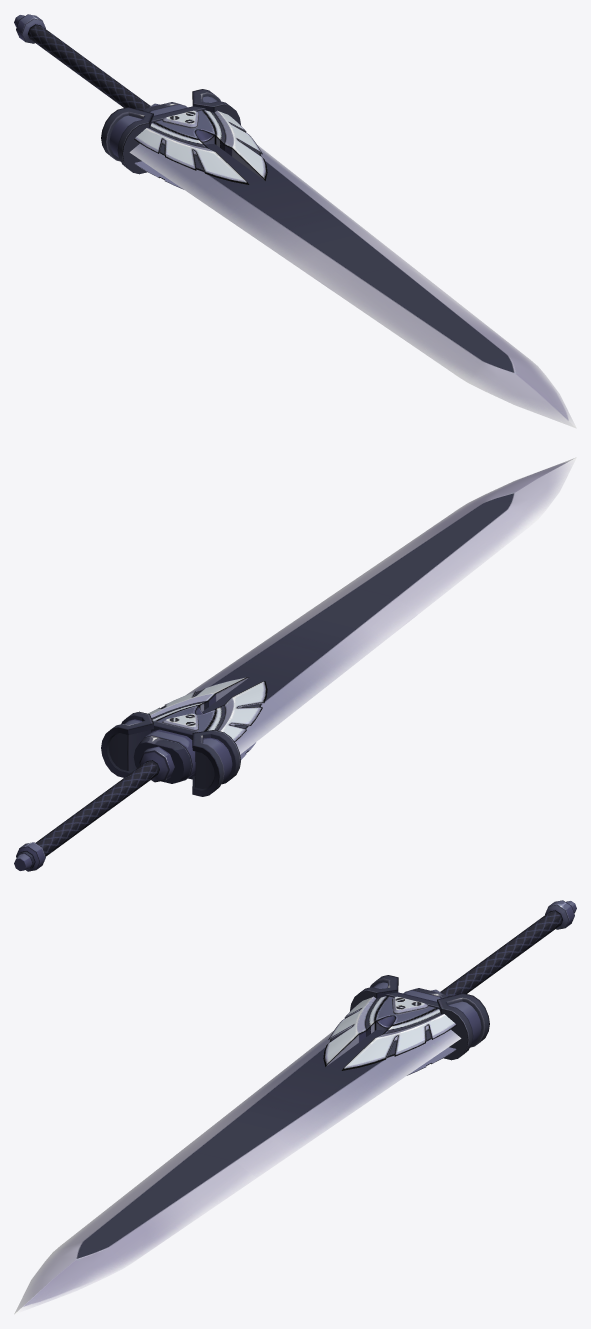
The model's file is Weapon_Claymore_H1_49_1.fbx.
The picture shows the model from 3 angles, top to bottom: view 1: azimuth 30°, elevation 25°; view 2: azimuth 150°, elevation 25°; view 3: azimuth 330°, elevation 25°; orthographic projection.
Visible parts, largest first — view 1: Sword; view 2: Sword; view 3: Sword.
Part boxes in pixels (<box>): Sword: <box>14,14,576,428</box>; Sword: <box>14,457,576,871</box>; Sword: <box>14,900,576,1314</box>.
Size of the model in its own units: 0.2289 by 0.09 by 1.87.
1 material, 1 textured.
